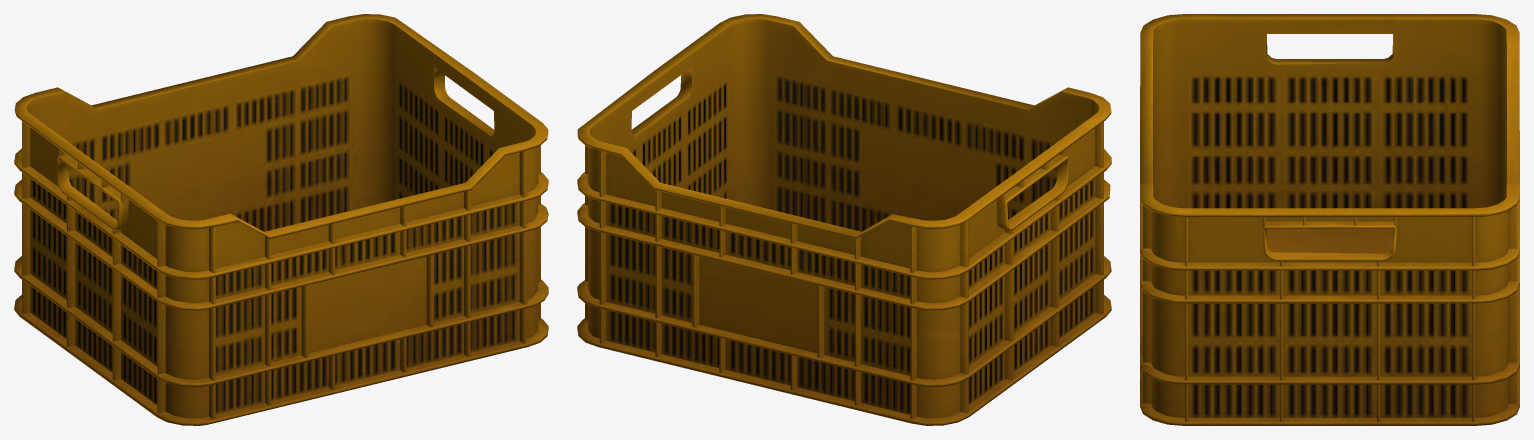
The model's file is plastic_crate.glb.
3 renders of one model, left to right at view 1: azimuth 30°, elevation 25°; view 2: azimuth 150°, elevation 25°; view 3: azimuth 270°, elevation 25°, orthographic. The views are drawn at different scales.
Visible parts, largest first — view 1: plastic_crate_02; view 2: plastic_crate_02; view 3: plastic_crate_02.
Boxes of the visible parts, x1=… form: plastic_crate_02: x1=14, y1=14, x2=548, y2=425; plastic_crate_02: x1=577, y1=14, x2=1111, y2=425; plastic_crate_02: x1=1140, y1=14, x2=1519, y2=425.
Bounding box in the file's own units: 0.5055 × 0.2541 × 0.4055.
1 material, 1 textured.
